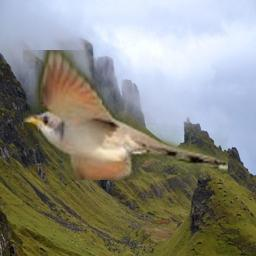Cuckoo: (23, 50, 228, 180)
